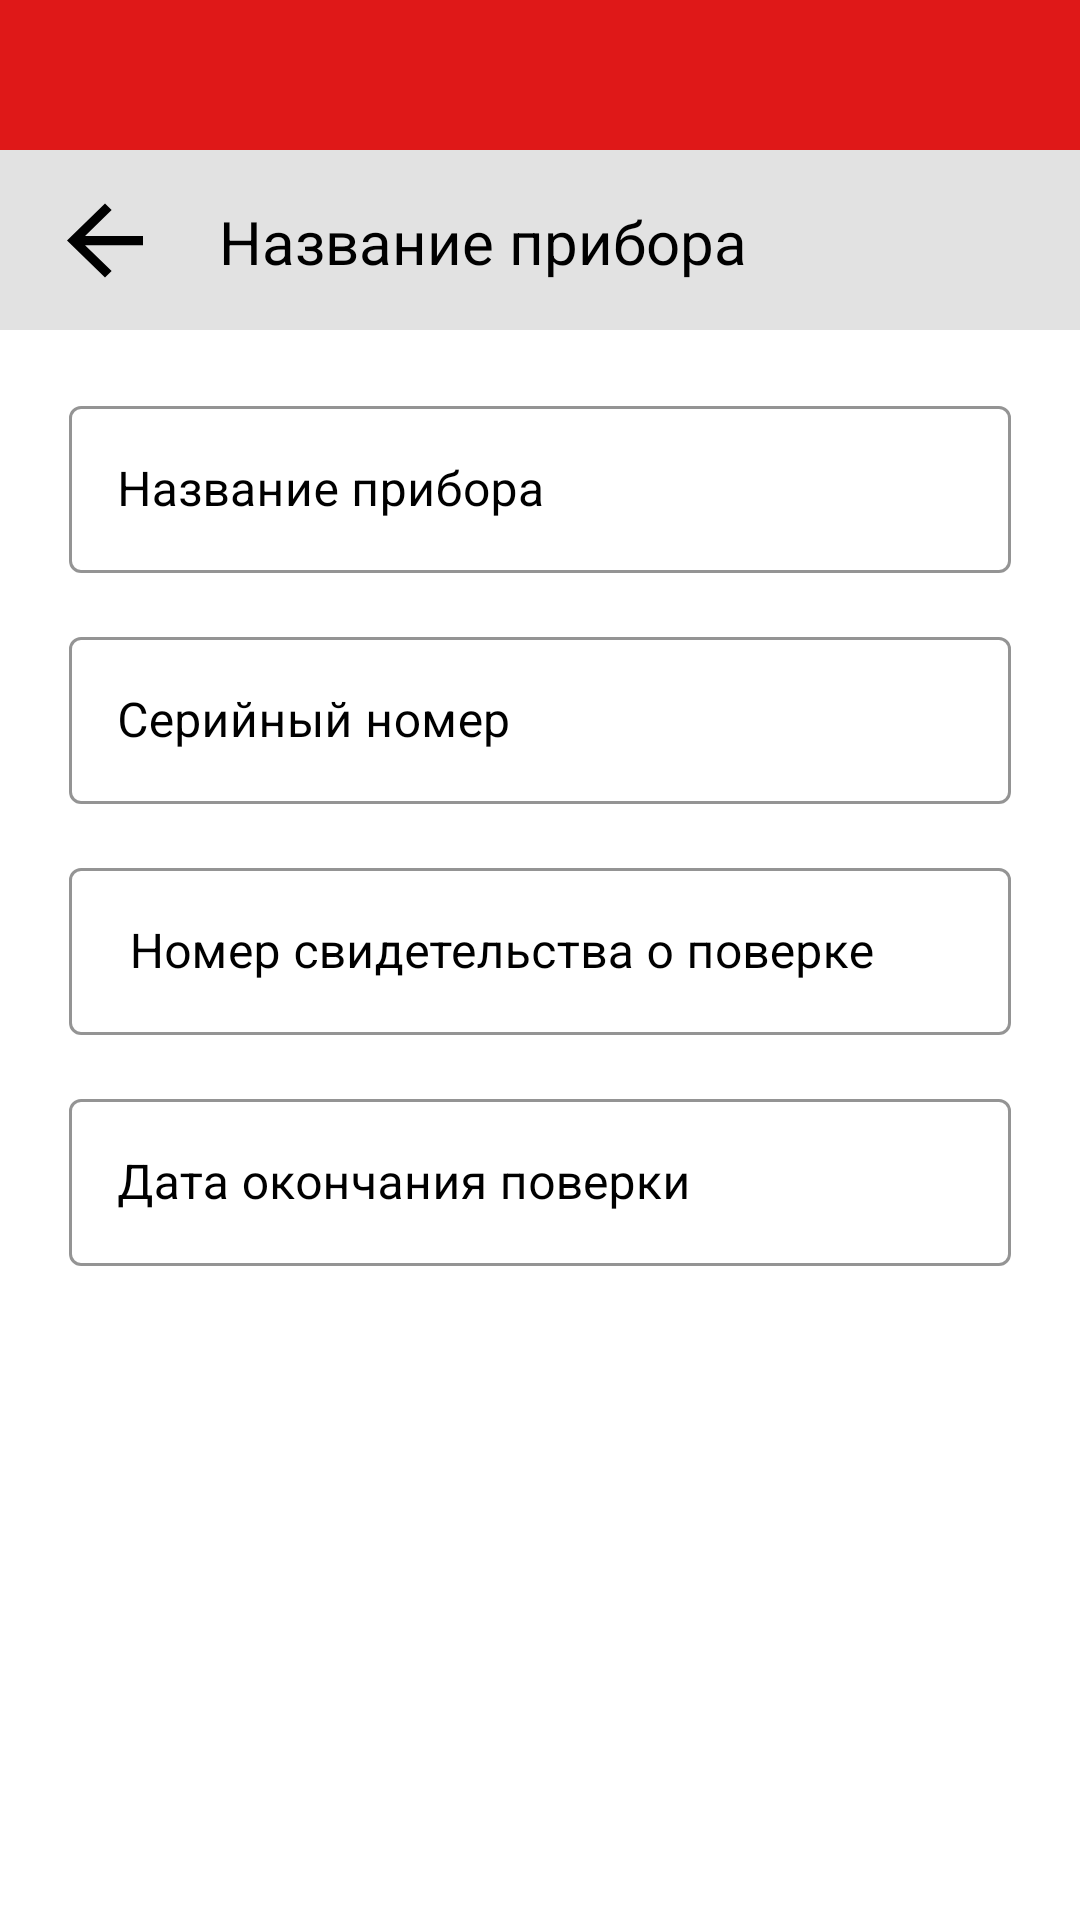

Where to tap for icons on this 1080 x 1920 app screen, as (x,y):
back to menu: (105,240)
